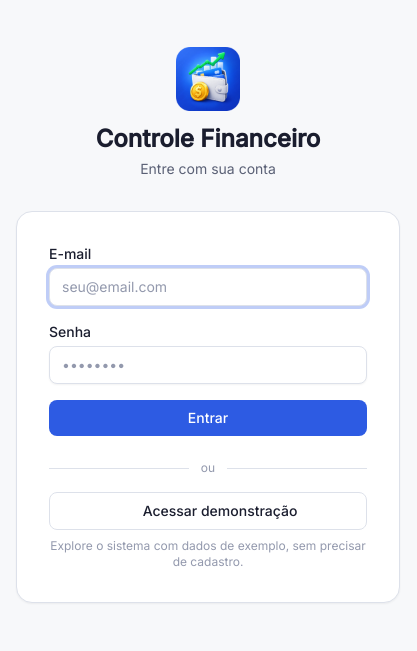
Login › resposta sem sucesso mostra a mensagem do backend
The width and height of the screenshot is (417, 651).
In the field labelled "E-mail": (208, 287) [49,268,367,306], type "ana@exemplo.com"
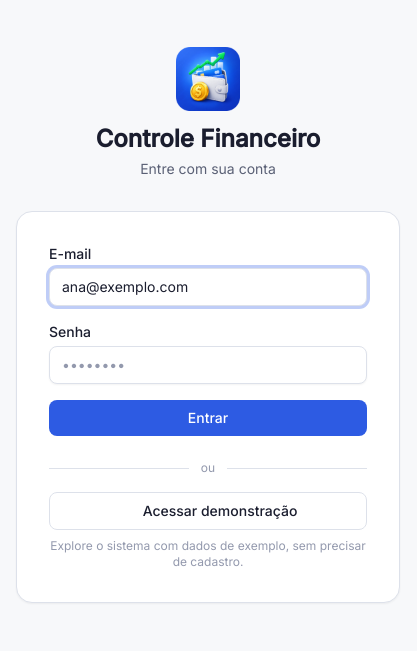
In the password field labelled "Senha": (208, 365) [49,346,367,384], type "segredo1"
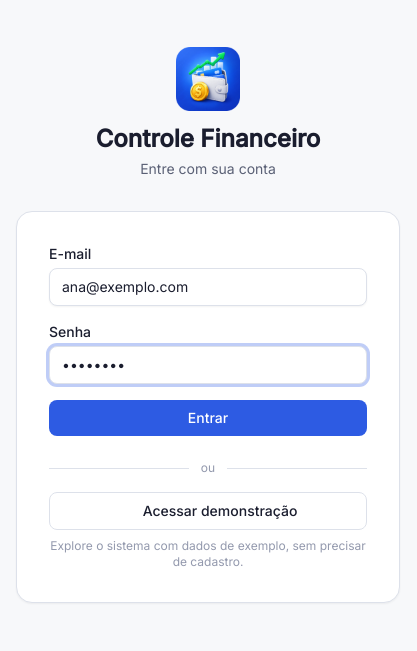
Click the button "Entrar": (208, 418) [49,400,367,436]
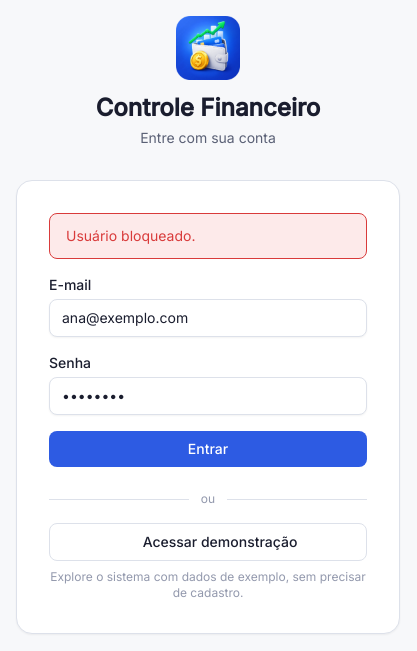
Check: the text "Usuário bloqueado." is shown, box [49,213,367,259]
